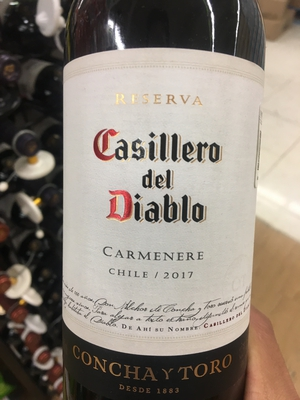casillero del diablo carmenere: (50, 21, 272, 400)
